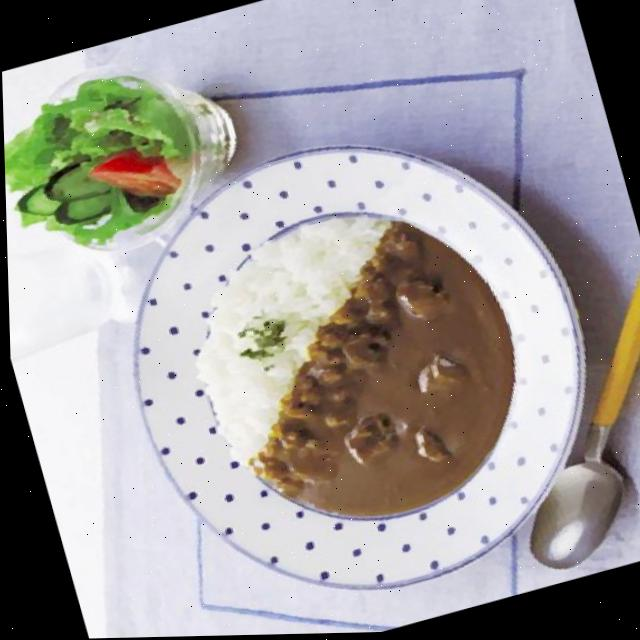牛肉菜式: (74, 94, 629, 639)
